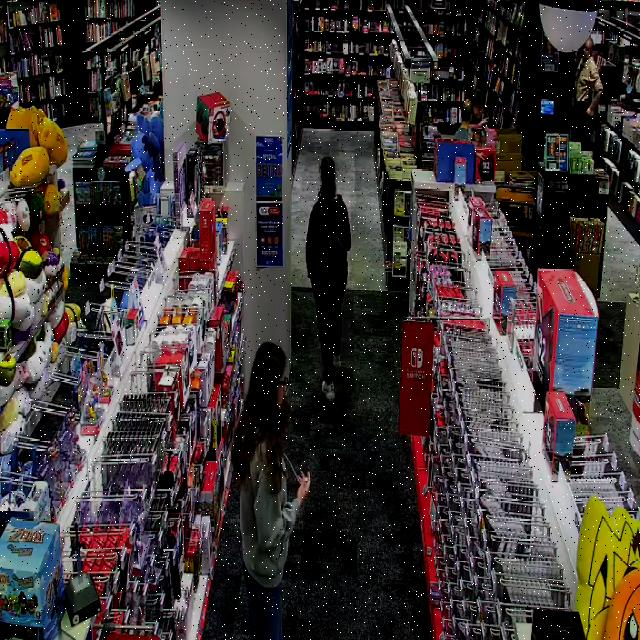hands: (297, 472, 310, 503)
person: (232, 342, 310, 639), (306, 157, 350, 399)
